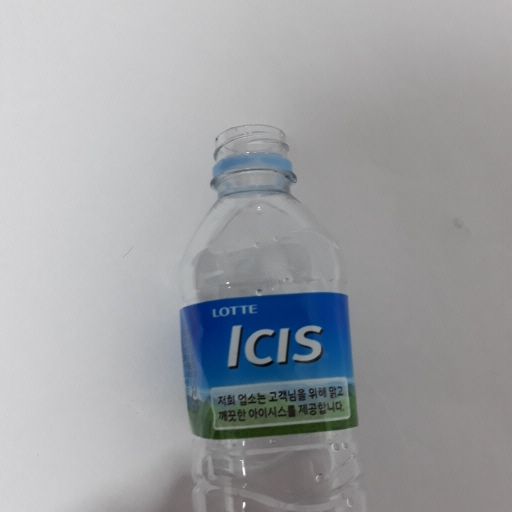Plastic_0: (172, 117, 374, 512)
